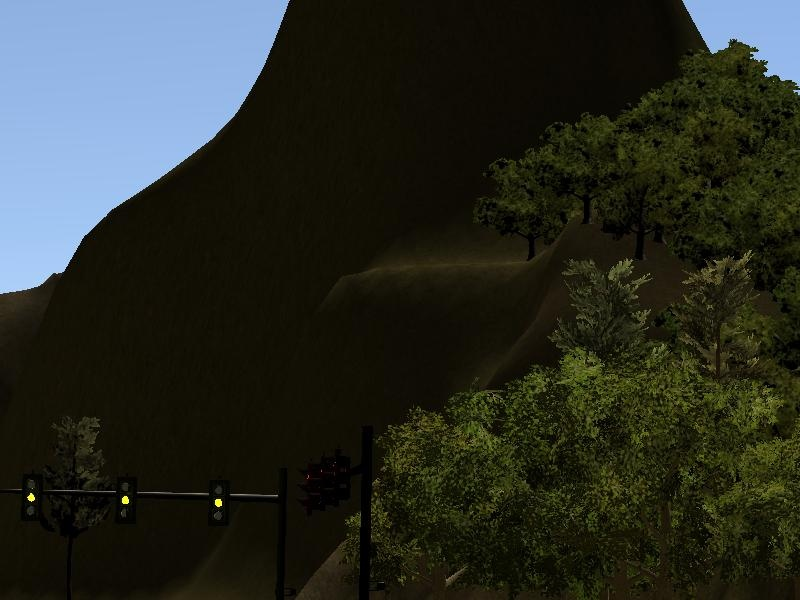YELLOW: (205, 479, 228, 530), (19, 474, 41, 522), (116, 478, 135, 525)
